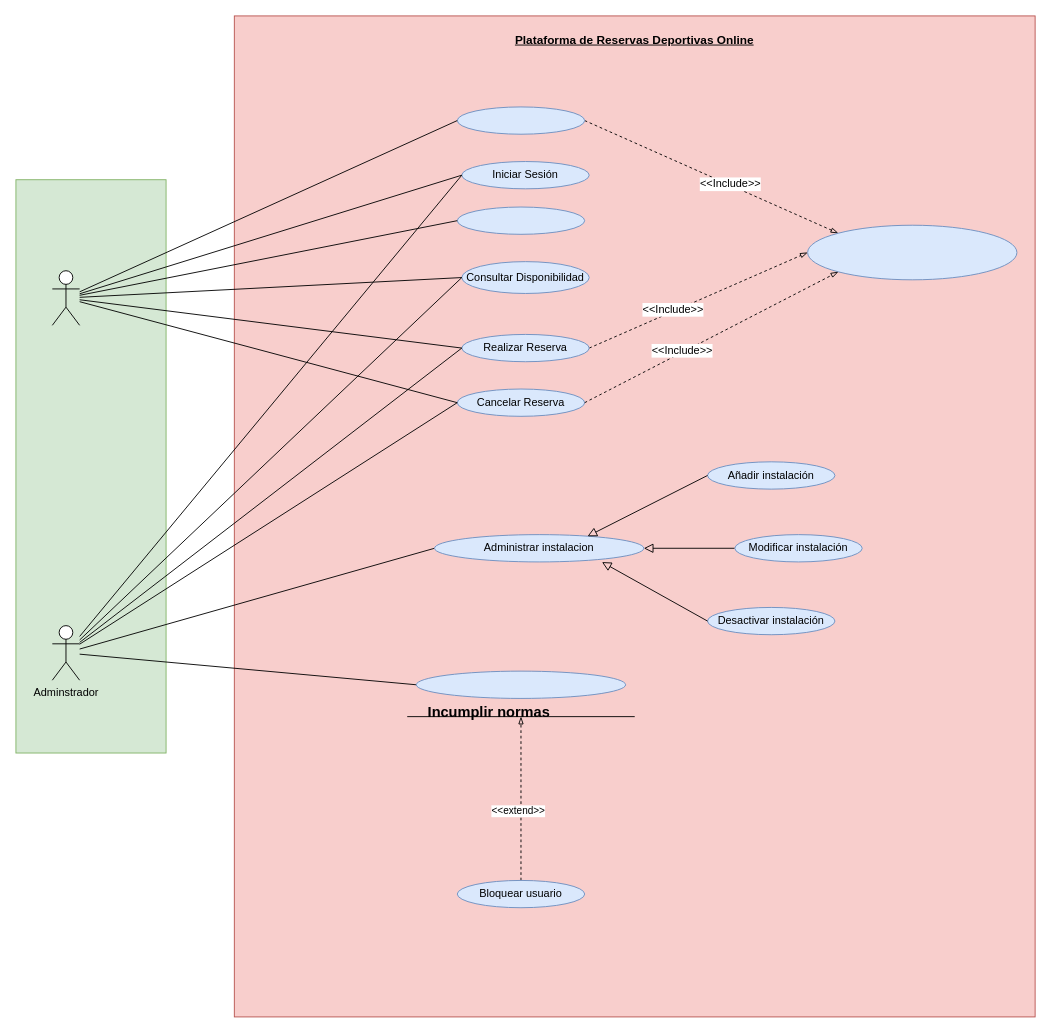
Some shapes in this 1051 by 1033 pixel diagram are drawn without their labels. Each missing label, with the centre of its shape:
"Consultar listado de usuarios" belongs at [520,684].
"Enviar correo confirmacion" belongs at [912,252].
"Modificar Perfil" belongs at [520,220].
"Registrarse" belongs at [520,120].
"Usuario" belongs at [65,297].
